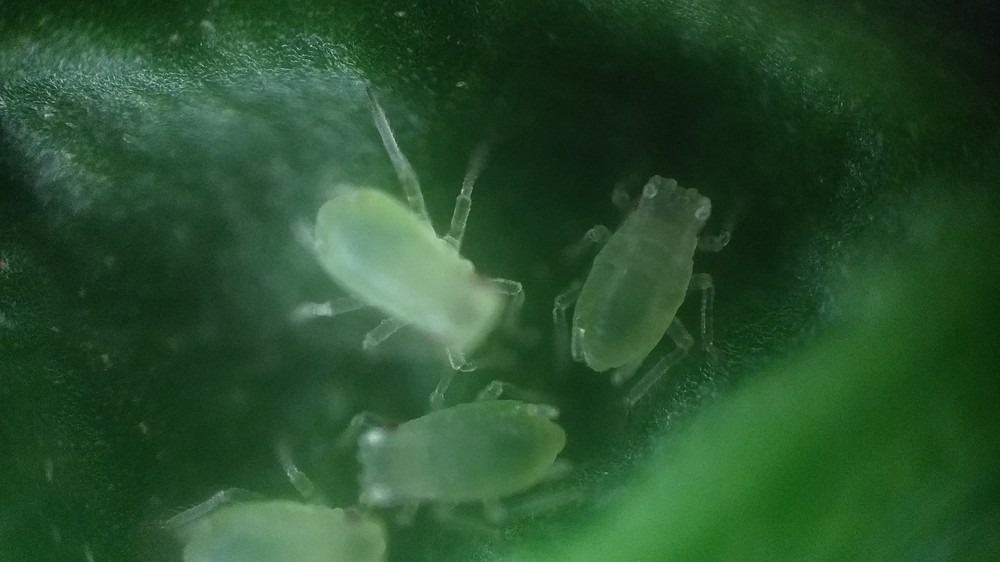Pulgon: (256, 89, 540, 374), (538, 148, 744, 407), (333, 376, 598, 506), (165, 452, 416, 562)
